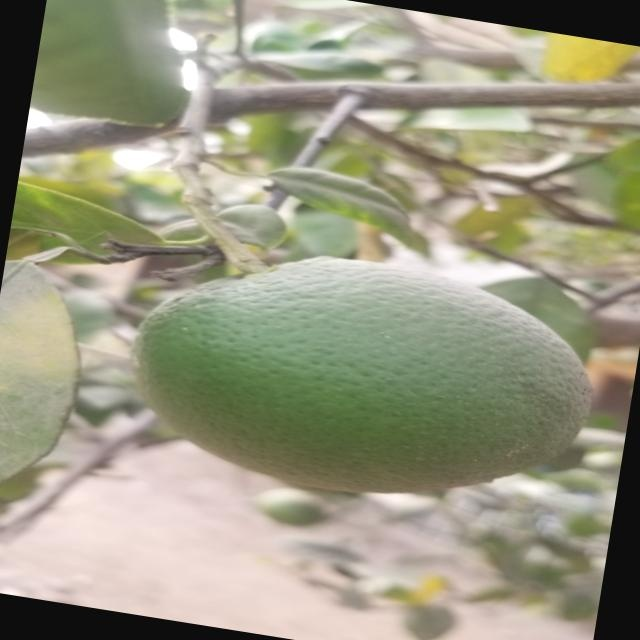agrume: (110, 227, 607, 529)
